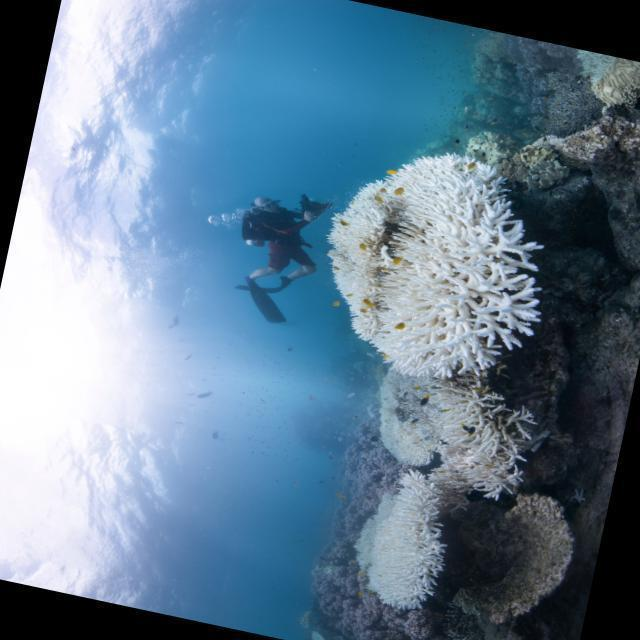Bleached Coral: (287, 109, 591, 387), (330, 471, 489, 623), (409, 375, 571, 507), (357, 350, 449, 466), (574, 48, 608, 75)
Dead Coral: (527, 69, 599, 137), (534, 130, 565, 148)
